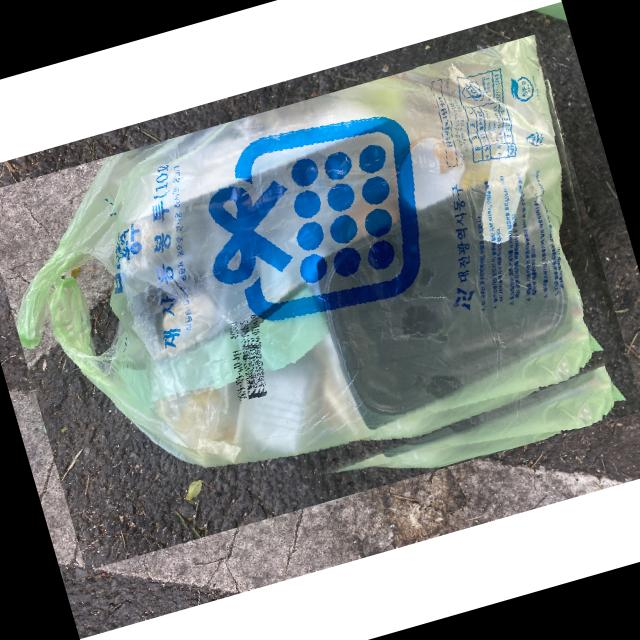general_trashbag: (15, 36, 599, 469)
